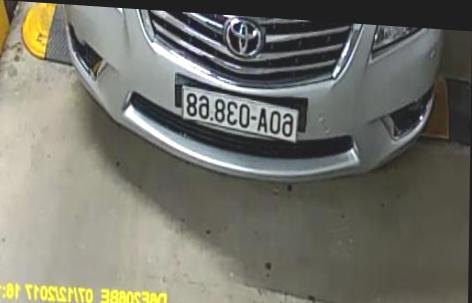License_Plate: (170, 82, 308, 144)
